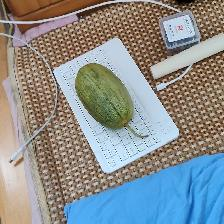gua: (72, 69, 129, 127)
